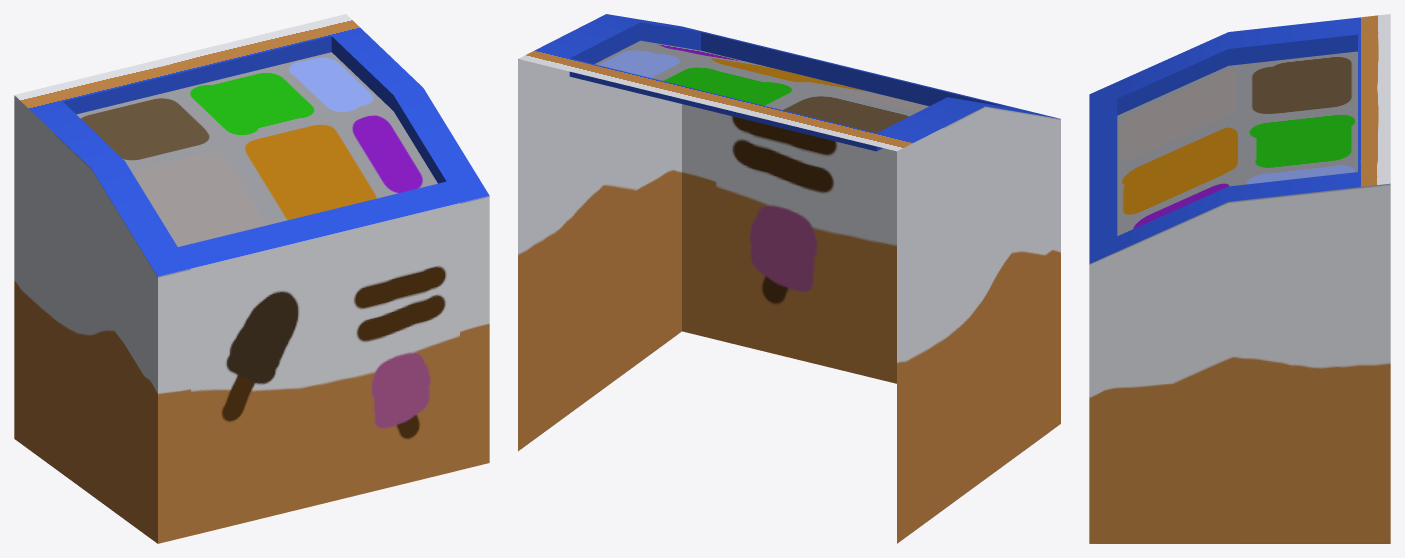
File: IceCreamBox.fbx
3 renders of one model, left to right at view 1: azimuth 30°, elevation 25°; view 2: azimuth 150°, elevation 25°; view 3: azimuth 270°, elevation 25°, orthographic. The views are drawn at different scales.
Visible parts, largest first — view 1: pCube1; view 2: pCube1; view 3: pCube1.
Part boxes in pixels (x1,y1,x2,y2): pCube1: (14,14,489,543); pCube1: (518,14,1060,543); pCube1: (1089,14,1390,543).
Bounding box in the file's own units: 40 × 39.6 × 30.
